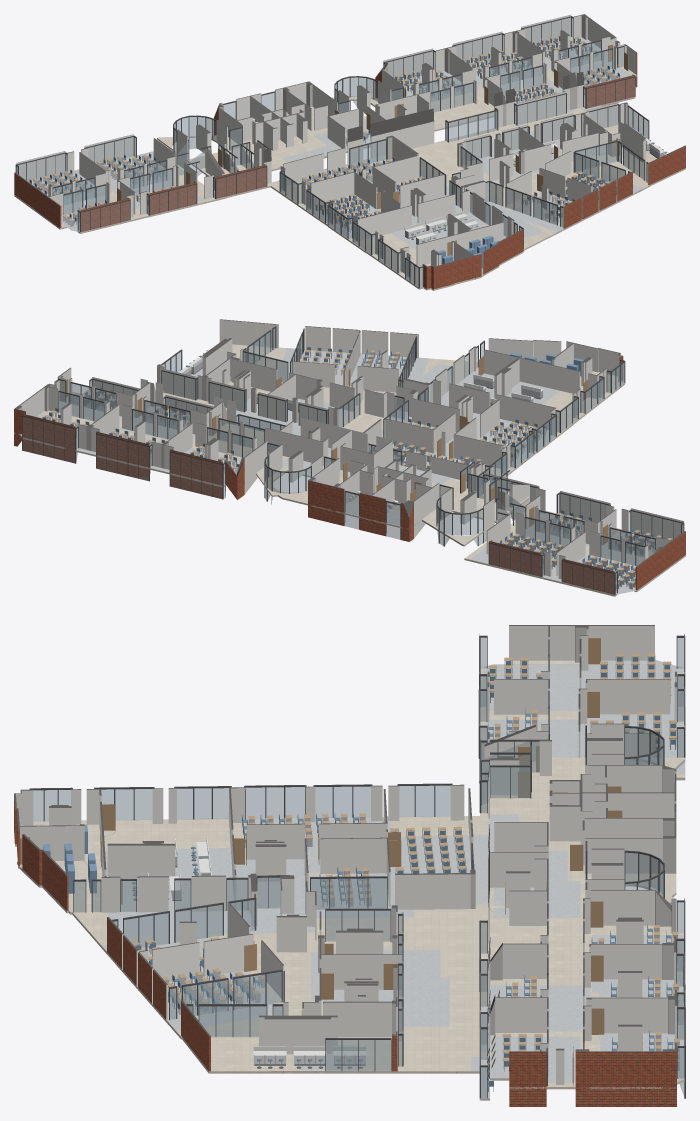
File: floor-5.glb
The picture shows the model from 3 angles, top to bottom: view 1: azimuth 30°, elevation 25°; view 2: azimuth 150°, elevation 25°; view 3: azimuth 270°, elevation 25°; orthographic projection. The views are drawn at different scales.
Visible parts, largest first — view 1: P5_Walls, P5_Glass, P5_Floor_Slab, P5_Floor_Zones, P5_Glass_Mullions, P5_Glass_Frames_Top, P5_Columns, P5_Furniture_3_3, P5_Furniture_0_3, P5_Doors, P5_Furniture_2_1, P5_Furniture_1_2 (+4 smaller); view 2: P5_Walls, P5_Glass, P5_Floor_Zones, P5_Floor_Slab, P5_Glass_Mullions, P5_Glass_Frames_Top, P5_Columns, P5_Doors, P5_Furniture_0_3, P5_Furniture_1_2, P5_Furniture_2_1, P5_Furniture_3_3 (+4 smaller); view 3: P5_Walls, P5_Floor_Zones, P5_Floor_Slab, P5_Glass, P5_Glass_Mullions, P5_Columns, P5_Glass_Frames_Top, P5_Doors, P5_Furniture_3_2, P5_Furniture_1_2, P5_Furniture_2_1, P5_Furniture_0_3 (+5 smaller).
Part boxes in pixels (x1,y1,x2,y2): P5_Walls: (14, 15, 685, 289); P5_Glass: (16, 18, 648, 287); P5_Floor_Slab: (14, 37, 685, 290); P5_Floor_Zones: (14, 36, 643, 249); P5_Glass_Mullions: (15, 16, 649, 287); P5_Glass_Frames_Top: (16, 16, 648, 268); P5_Columns: (35, 14, 628, 212); P5_Furniture_3_3: (435, 35, 609, 98); P5_Furniture_0_3: (29, 154, 176, 212); P5_Doors: (117, 44, 628, 255); P5_Furniture_2_1: (425, 183, 575, 253); P5_Furniture_1_2: (302, 165, 382, 231); P5_Walls: (17, 319, 685, 594); P5_Glass: (23, 328, 683, 594); P5_Floor_Zones: (20, 348, 655, 594); P5_Floor_Slab: (14, 344, 685, 596); P5_Glass_Mullions: (22, 326, 684, 594); P5_Glass_Frames_Top: (22, 326, 684, 573); P5_Columns: (14, 364, 663, 573); P5_Doors: (66, 356, 607, 544); P5_Furniture_0_3: (510, 520, 643, 590); P5_Furniture_1_2: (422, 419, 541, 468); P5_Furniture_2_1: (332, 349, 536, 405); P5_Furniture_3_3: (42, 397, 205, 458); P5_Walls: (14, 625, 685, 1106); P5_Floor_Zones: (102, 660, 685, 1098); P5_Floor_Slab: (14, 660, 685, 1100); P5_Glass: (33, 637, 684, 1098); P5_Glass_Mullions: (30, 636, 685, 1098); P5_Columns: (318, 625, 676, 1106); P5_Glass_Frames_Top: (29, 635, 685, 1067); P5_Doors: (20, 638, 622, 1082); P5_Furniture_3_2: (247, 982, 526, 1091); P5_Furniture_1_2: (244, 812, 465, 872); P5_Furniture_2_1: (66, 853, 243, 988); P5_Furniture_0_3: (525, 653, 677, 750).
Bounding box in the file's own units: 77.07 × 4.61 × 48.95.
Materials: 19 (4 with a texture image).
